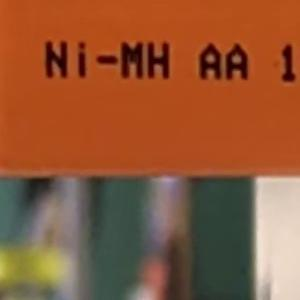keyword: (35, 33, 179, 88)
